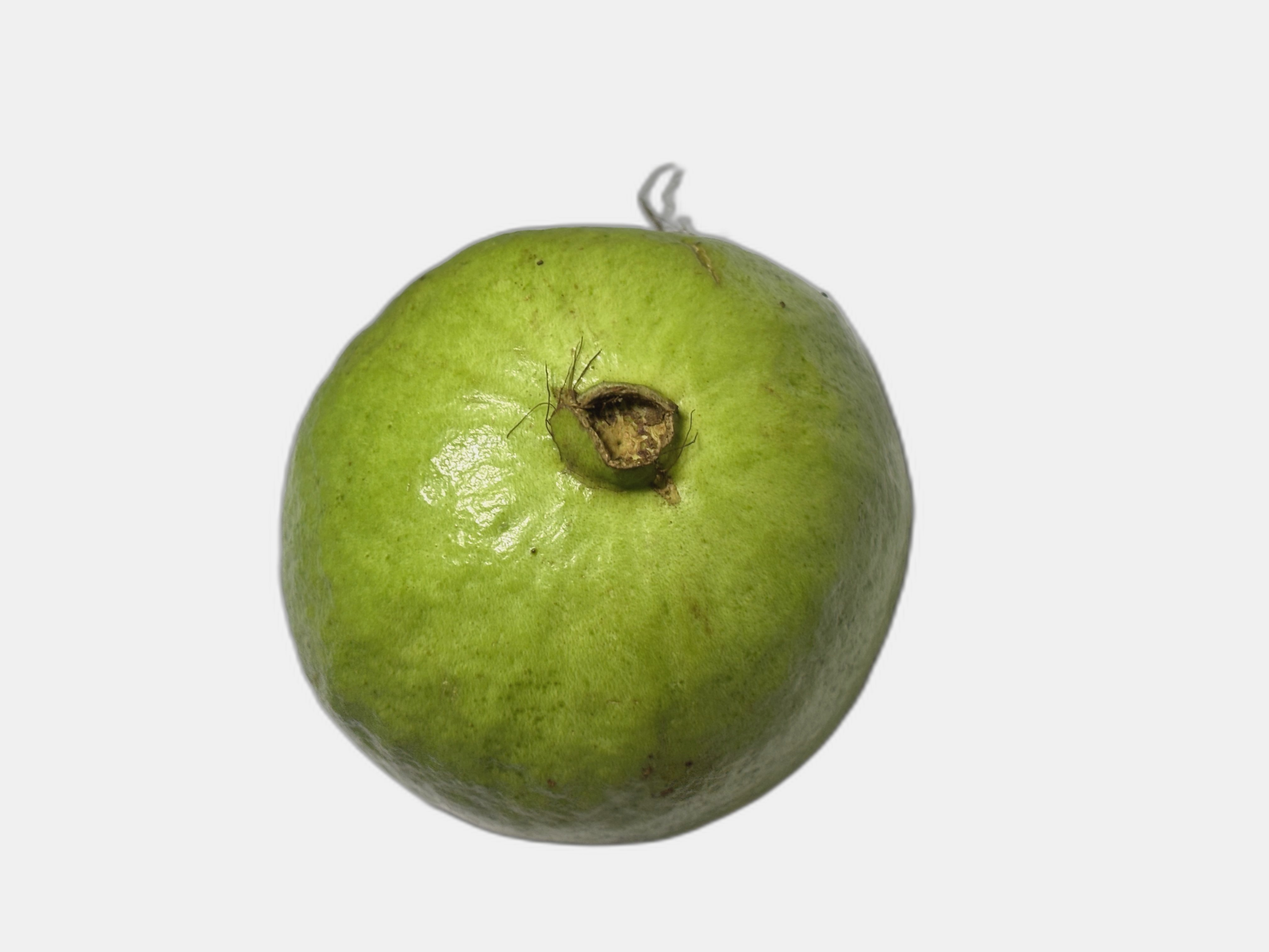guava: (103, 151, 1053, 723)
